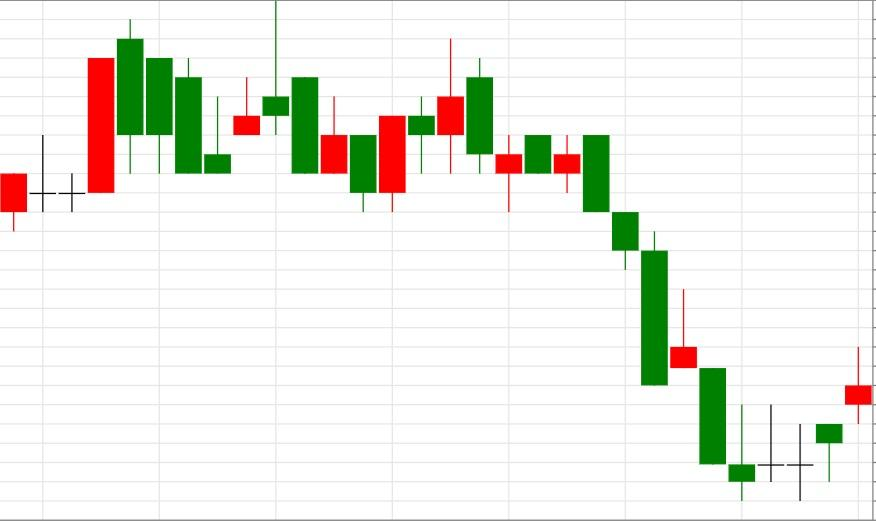inverse_hammer_rise: (117, 19, 232, 175)
three_black_crows_fall: (495, 133, 668, 387)
